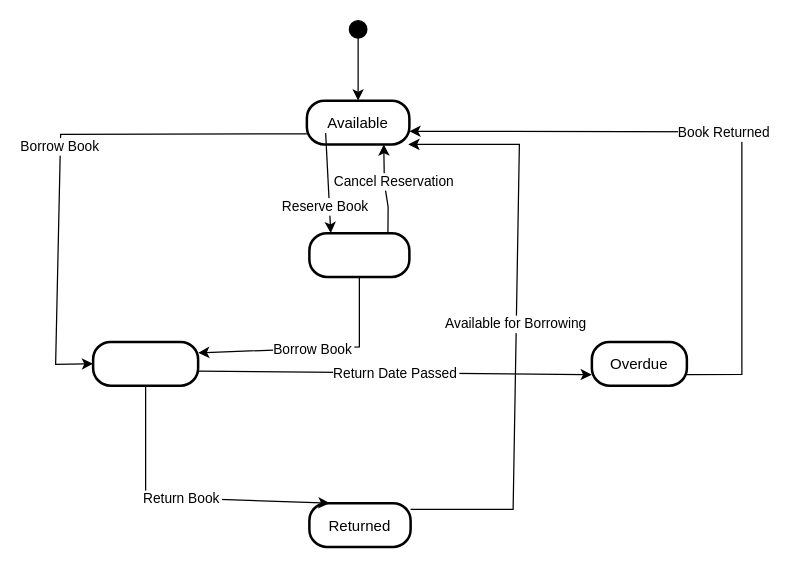
This 793x568 diagram has some shape labels left out. Each missing label, with the centre of its shape:
"Borrowed" belongs at [145,363].
"Reserved" belongs at [359,254].
